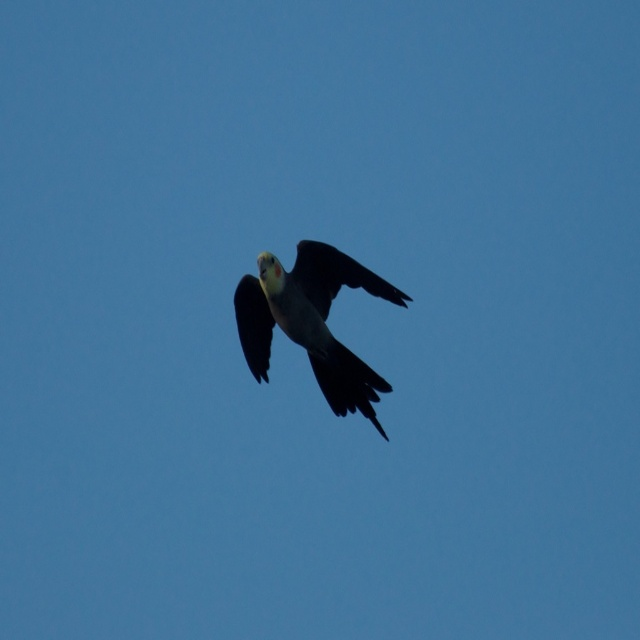Eagle: (232, 237, 418, 450)
